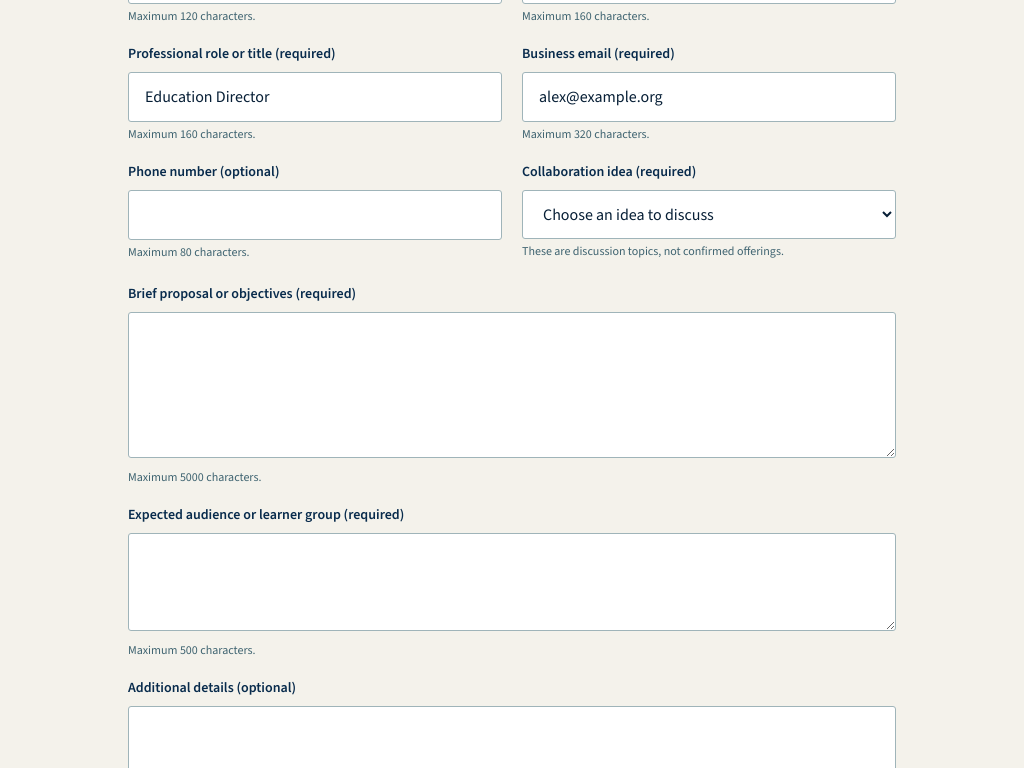
Test case: public enquiry surfaces › validates email locally and does not persist or send a valid-looking proposal
The width and height of the screenshot is (1024, 768).
Earlier steps of the test are not shown.
Later steps or results of the test are not shown.
(page scrolled)
Type "We would like to discuss possible educational content collaboration." into the text box labelled "Brief proposal or objectives (required)". click: (512, 385)
box: [128,312,896,458]
Type "Healthcare professionals in our learning network." into the text box labelled "Expected audience or learner group (required)". click: (512, 582)
box: [128,533,896,631]
(page scrolled)
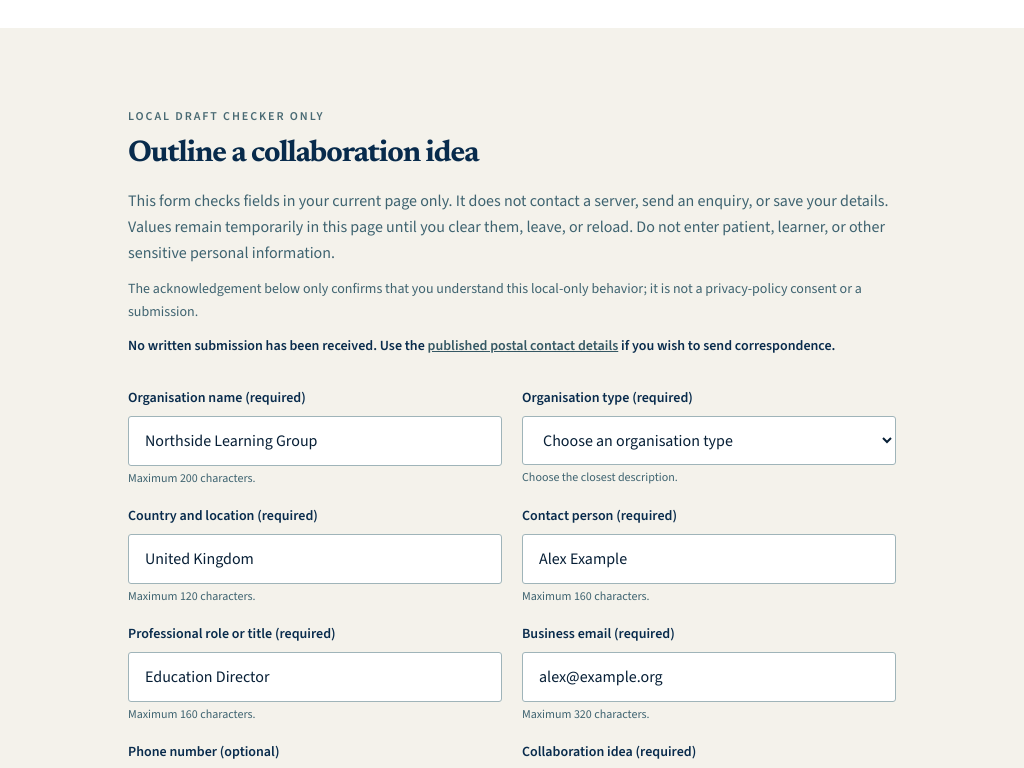
Select "University or college" in the dropdown labelled "Organisation type (required)". click: (709, 440)
box: [522,416,896,465]
(page scrolled)
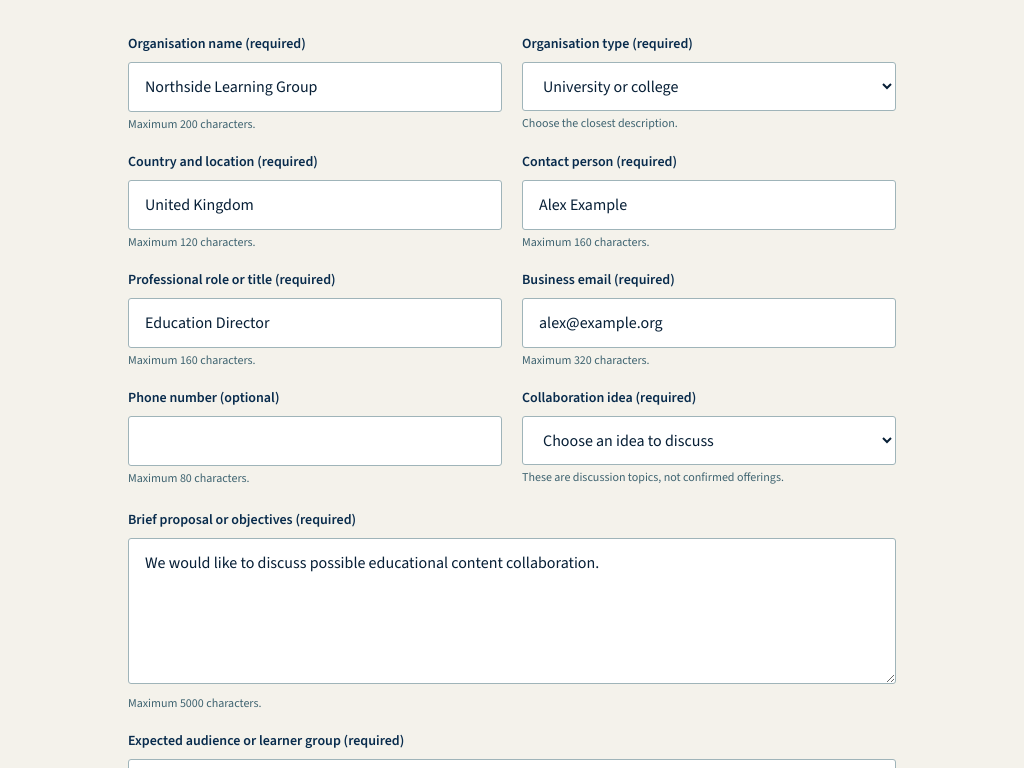
Select "Educational-content collaboration" in the dropdown labelled "Collaboration idea (required)". click: (709, 440)
box: [522,416,896,465]
(page scrolled)
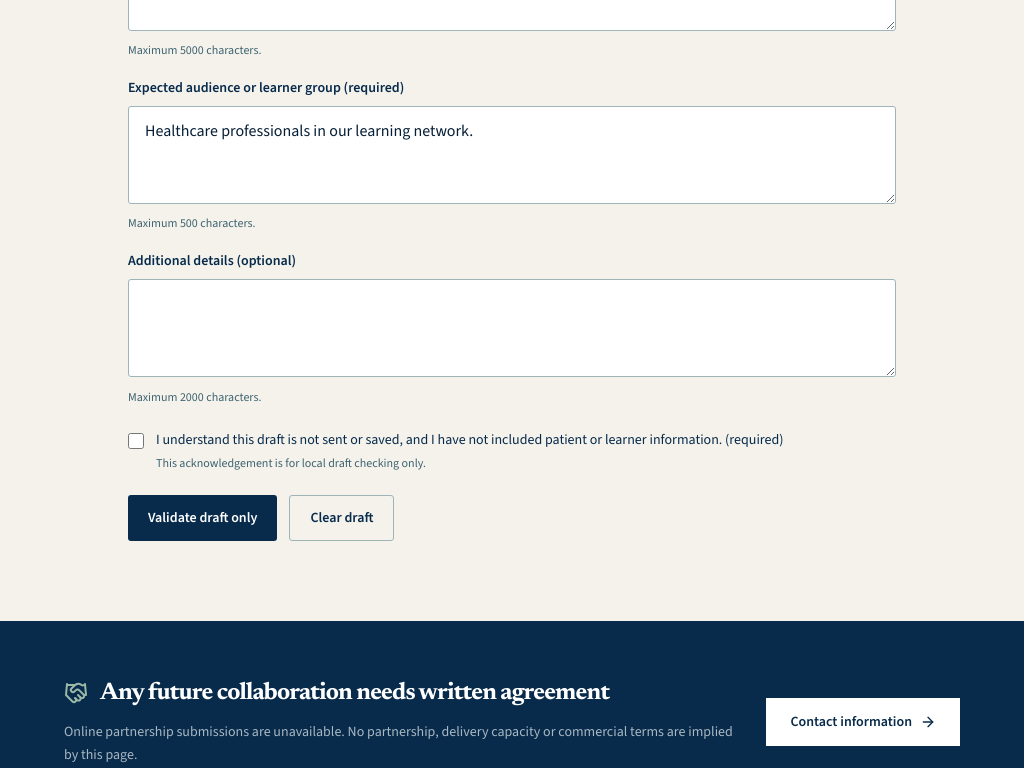
Click the checkbox labelled "I understand this draft". click: (136, 441)
box: [128,433,144,449]
(page scrolled)
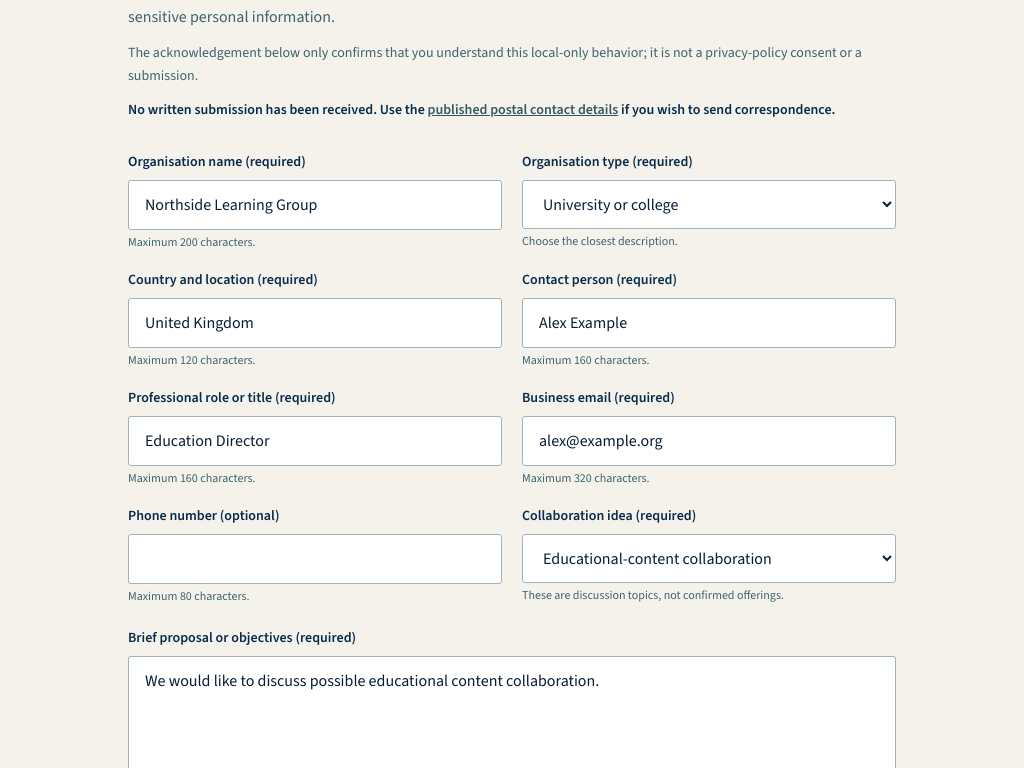
Replace the text in the field labelled "Business email (required)" with "not-an-email". click: (709, 441)
box: [522,416,896,466]
(page scrolled)
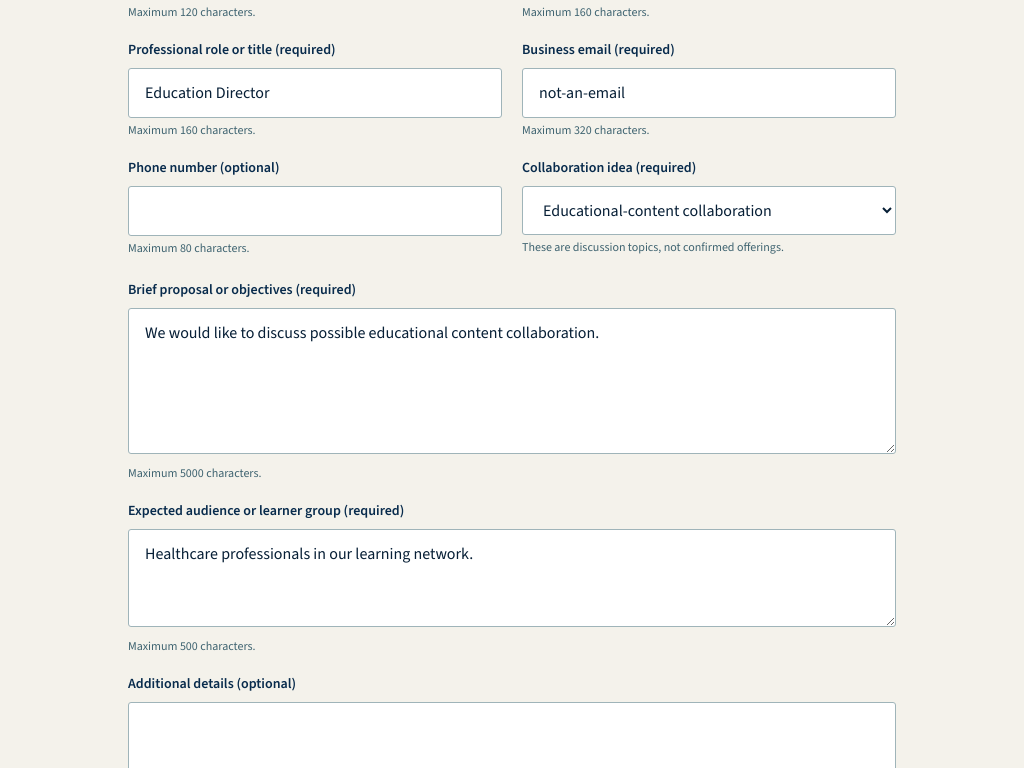
Submit the form named "Outline a collaboration idea"
(page scrolled)
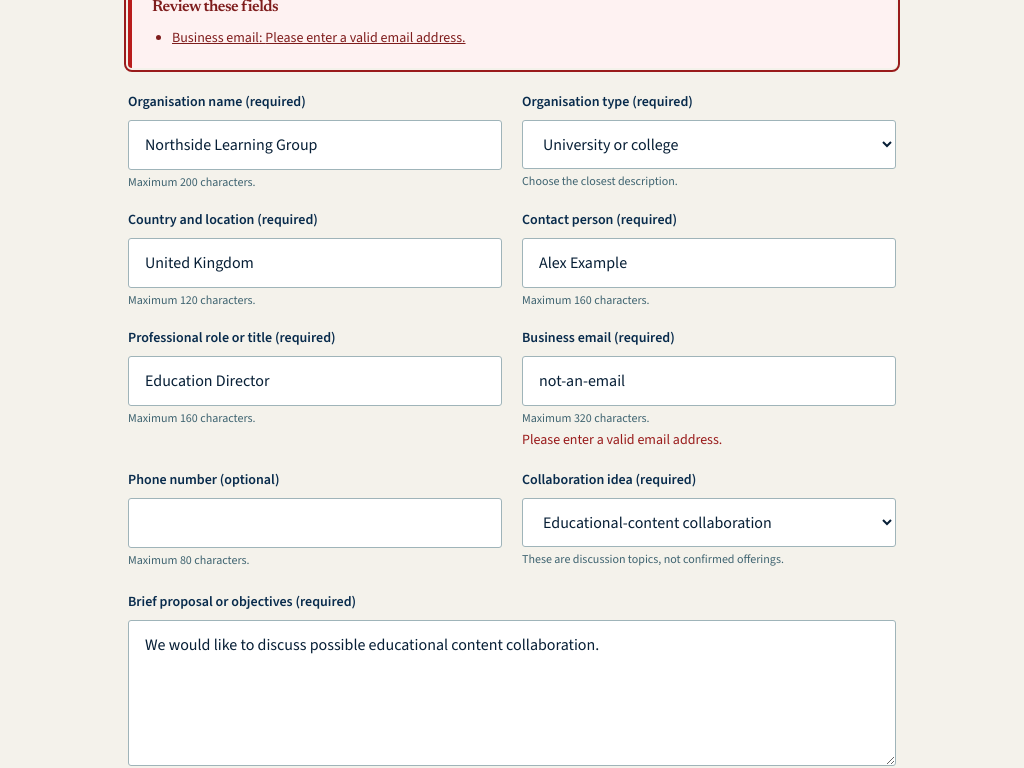
expect the text "Please enter a valid email address." is shown: met, box [522,430,722,449]
